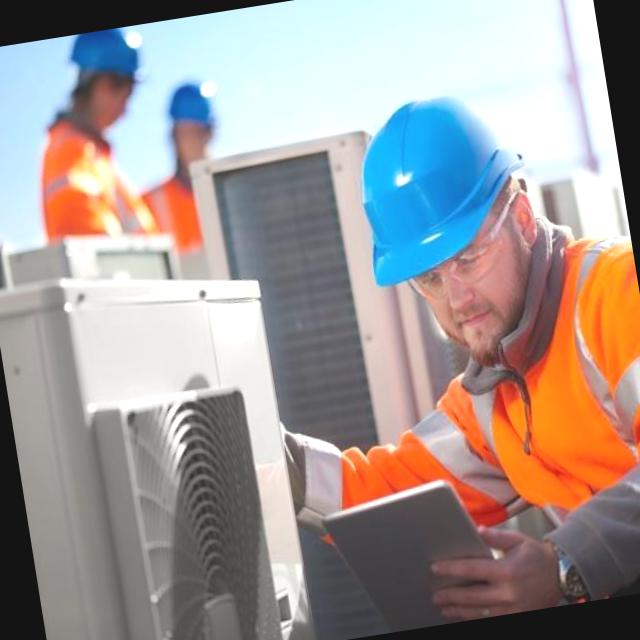goggles: (396, 238, 536, 296)
helmet: (325, 84, 551, 297), (64, 25, 145, 92)
vest: (317, 273, 640, 558), (34, 103, 139, 256)
